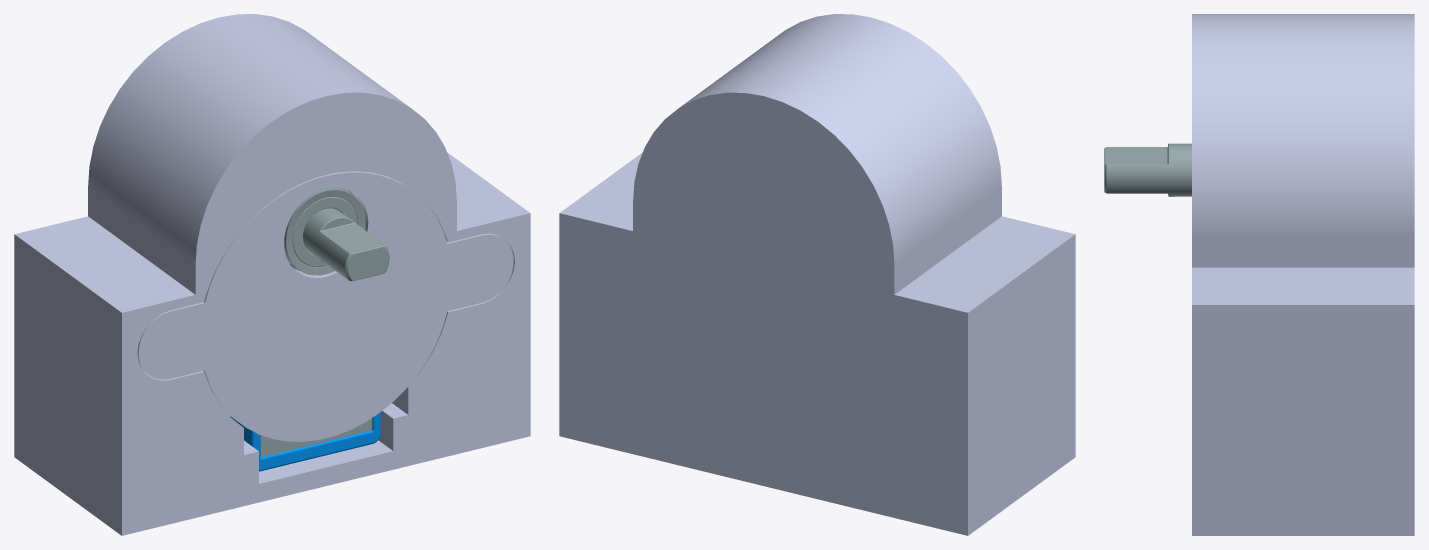
Rendered from SubAssem_MotorA.glb.
3 renders of one model, left to right at view 1: azimuth 30°, elevation 25°; view 2: azimuth 150°, elevation 25°; view 3: azimuth 270°, elevation 25°, orthographic. The views are drawn at different scales.
Parts seen in each view (by area): view 1: Motor A Housing-1, Motor A Holder-1, 28BYJ-48-1; view 2: Motor A Housing-1; view 3: Motor A Housing-1, 28BYJ-48-1.
Boxes of the visible parts, box(x1,y1,x2,y2) form: Motor A Housing-1: box(14, 14, 530, 535); Motor A Holder-1: box(137, 171, 513, 441); 28BYJ-48-1: box(229, 187, 389, 471); Motor A Housing-1: box(559, 14, 1075, 535); Motor A Housing-1: box(1192, 14, 1414, 535); 28BYJ-48-1: box(1104, 143, 1191, 196).
Size of the model in its own units: 0.046 by 0.042 by 0.0292.
